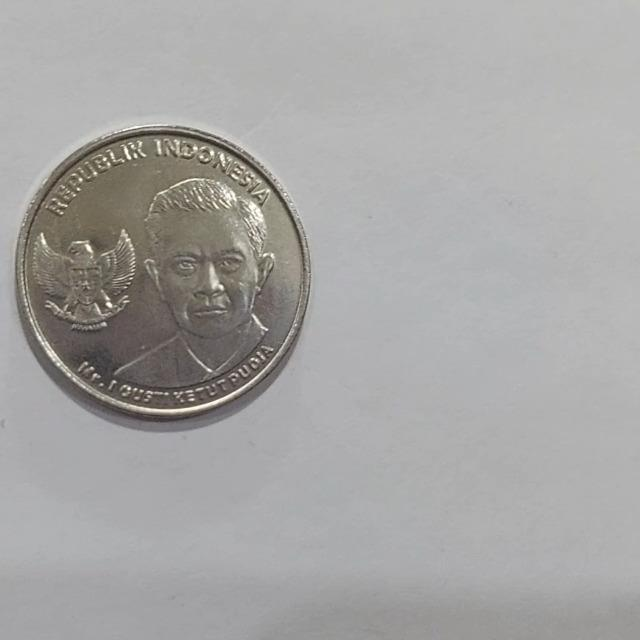Rp100: (13, 122, 313, 423), (107, 174, 278, 389)
